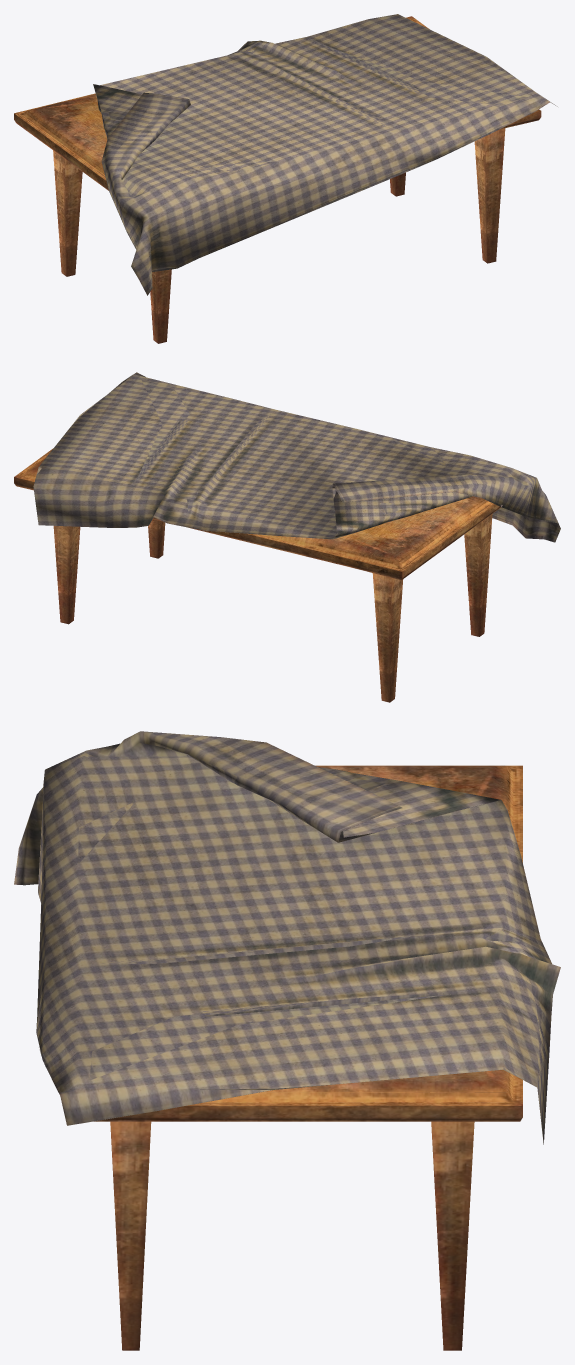
The model's file is dining.glb.
The picture shows the model from 3 angles, top to bottom: view 1: azimuth 30°, elevation 25°; view 2: azimuth 150°, elevation 25°; view 3: azimuth 270°, elevation 25°; orthographic projection. The views are drawn at different scales.
Visible parts, largest first — view 1: dining_table; view 2: dining_table; view 3: dining_table.
Part boxes in pixels (x1,y1,x2,y2): dining_table: (14,14,557,343); dining_table: (14,372,560,702); dining_table: (14,731,560,1350).
Bounding box in the file's own units: 2.25 × 0.877 × 1.39.
1 material, 1 textured.
